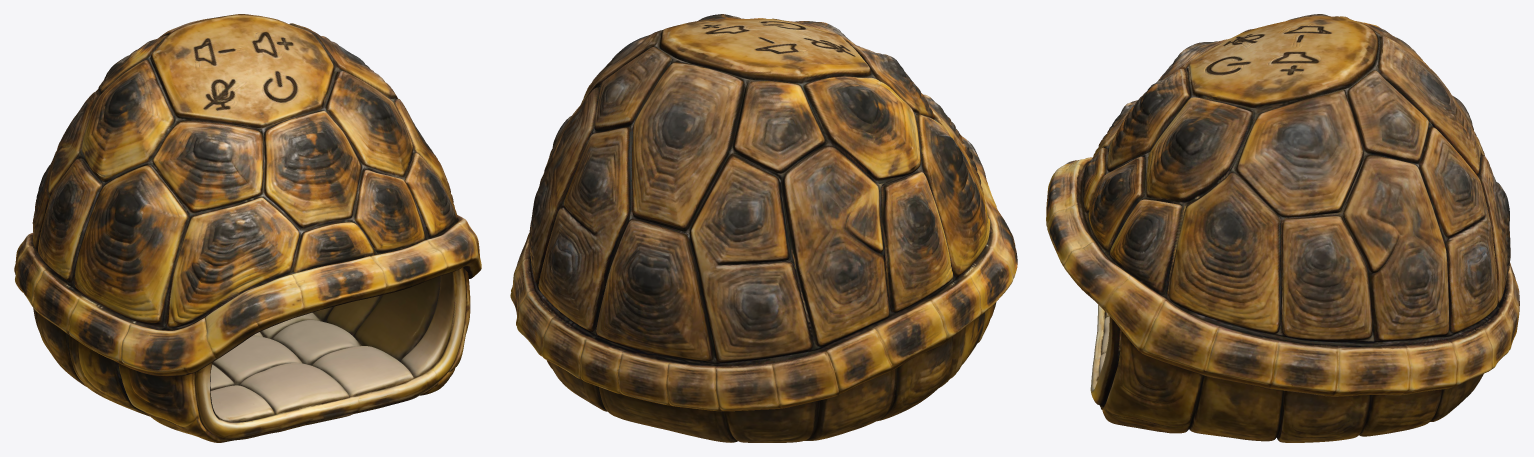
Rendered from caparazon-web.glb.
3 renders of one model, left to right at view 1: azimuth 30°, elevation 25°; view 2: azimuth 150°, elevation 25°; view 3: azimuth 270°, elevation 25°, orthographic. The views are drawn at different scales.
Visible parts, largest first — view 1: tripo_node_d88b1dcb; view 2: tripo_node_d88b1dcb; view 3: tripo_node_d88b1dcb.
Boxes of the visible parts, left/top/right/bottom form: tripo_node_d88b1dcb: left=14, top=14, right=481, bottom=442; tripo_node_d88b1dcb: left=510, top=14, right=1017, bottom=442; tripo_node_d88b1dcb: left=1046, top=14, right=1519, bottom=442.
Size of the model in its own units: 0.979 by 0.7663 by 0.9757.
1 material, 1 textured.
